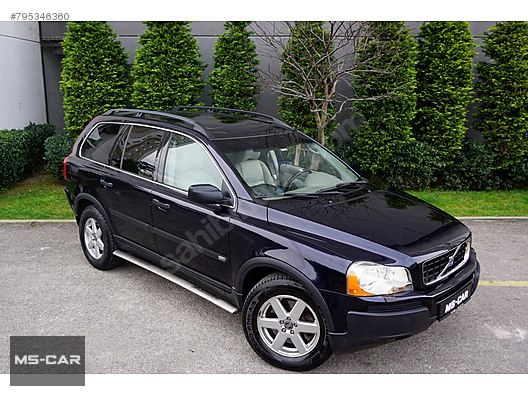car: (61, 99, 483, 370)
